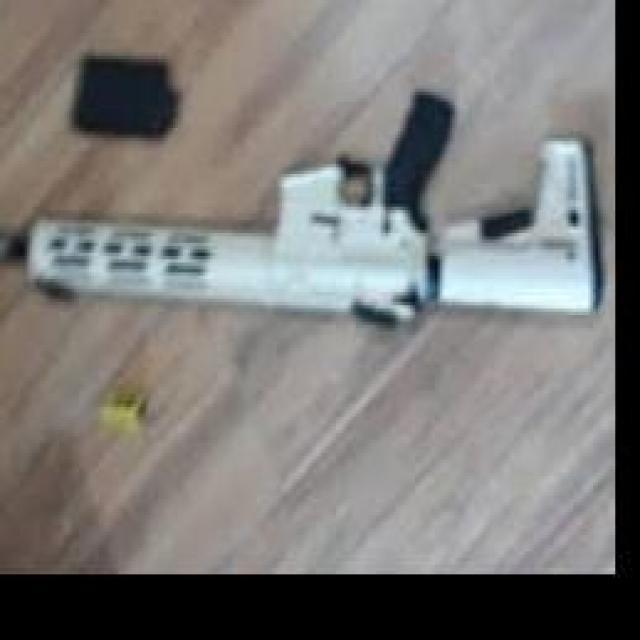weapon: (0, 91, 605, 330)
